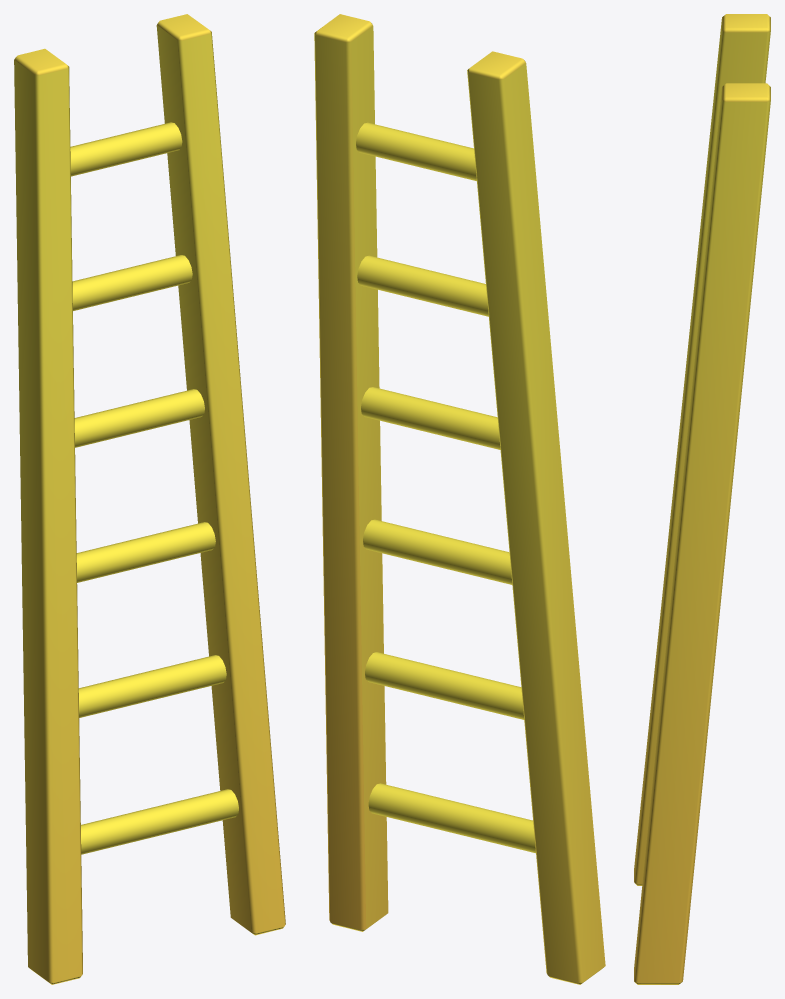
File: Farm_9_Ladder_1.glb
3 views of the same model, side by side, from view 1: azimuth 30°, elevation 25°; view 2: azimuth 150°, elevation 25°; view 3: azimuth 270°, elevation 25° (orthographic). The views are drawn at different scales.
Parts seen in each view (by area): view 1: Farm_9_Ladder_1; view 2: Farm_9_Ladder_1; view 3: Farm_9_Ladder_1.
Boxes of the visible parts, x1,y1,x2,y2 form: Farm_9_Ladder_1: (14,14,285,984); Farm_9_Ladder_1: (314,14,605,984); Farm_9_Ladder_1: (634,14,770,984).
Size of the model in its own units: 1.21 by 4.27 by 0.6069.
Materials: 1 (1 with a texture image).
